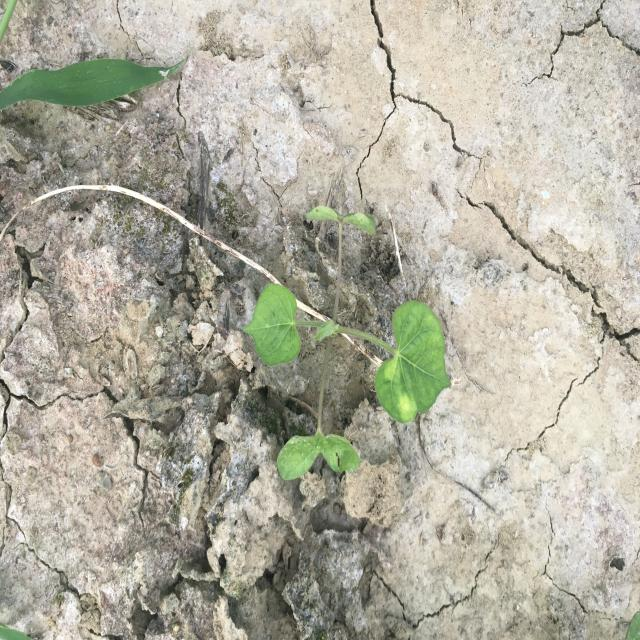MorningGlory: (242, 203, 453, 482)
